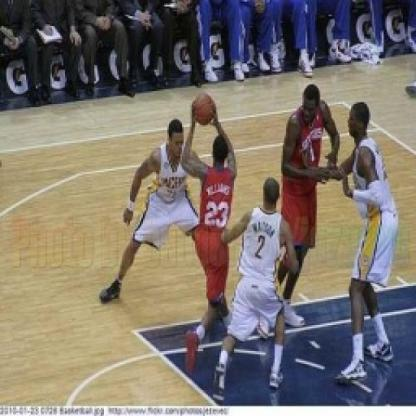basketball: (194, 90, 218, 125)
